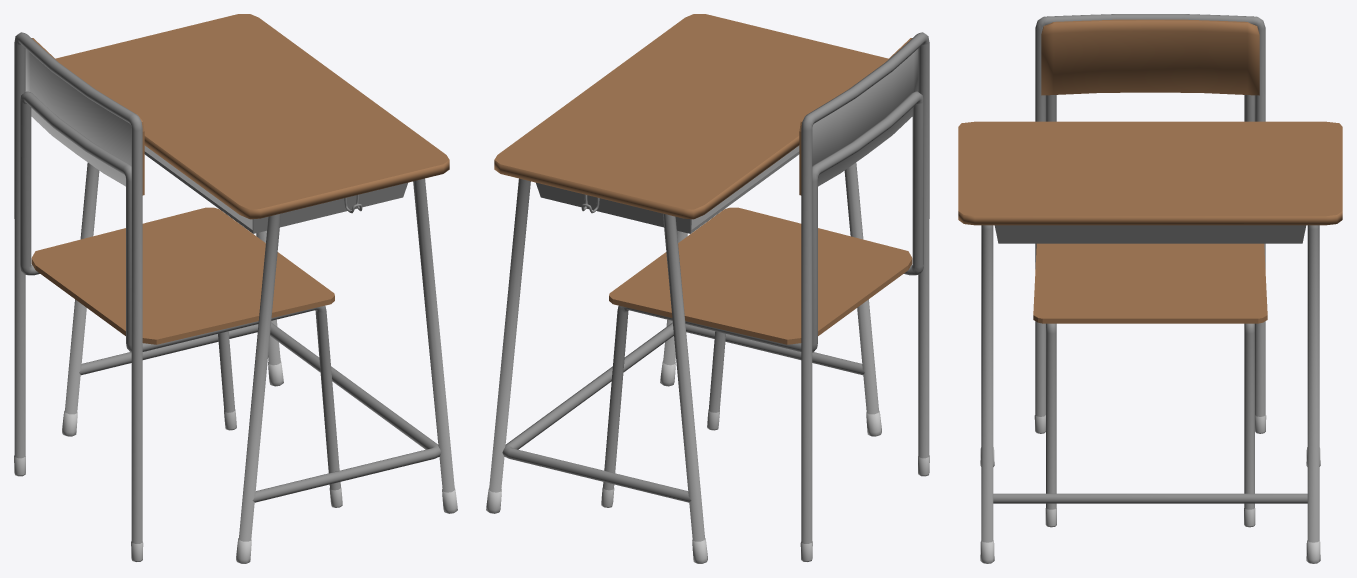
File: SchoolDesk.fbx
3 renders of one model, left to right at view 1: azimuth 30°, elevation 25°; view 2: azimuth 150°, elevation 25°; view 3: azimuth 270°, elevation 25°, orthographic. The views are drawn at different scales.
Parts seen in each view (by area): view 1: Cube, Cube.001; view 2: Cube, Cube.001; view 3: Cube, Cube.001.
Part boxes in pixels (bbox=[...]): Cube: bbox=[56, 14, 457, 563]; Cube.001: bbox=[14, 32, 342, 561]; Cube: bbox=[486, 14, 887, 563]; Cube.001: bbox=[601, 32, 929, 561]; Cube: bbox=[958, 121, 1342, 563]; Cube.001: bbox=[1033, 14, 1267, 527].
Size of the model in its own units: 364 by 511 by 428.
